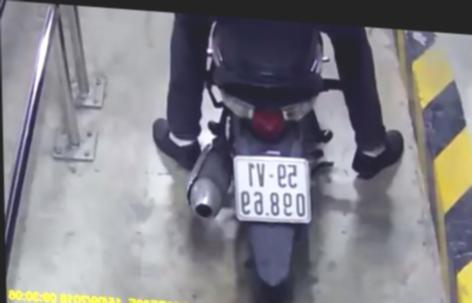License_Plate: (233, 150, 316, 228)
